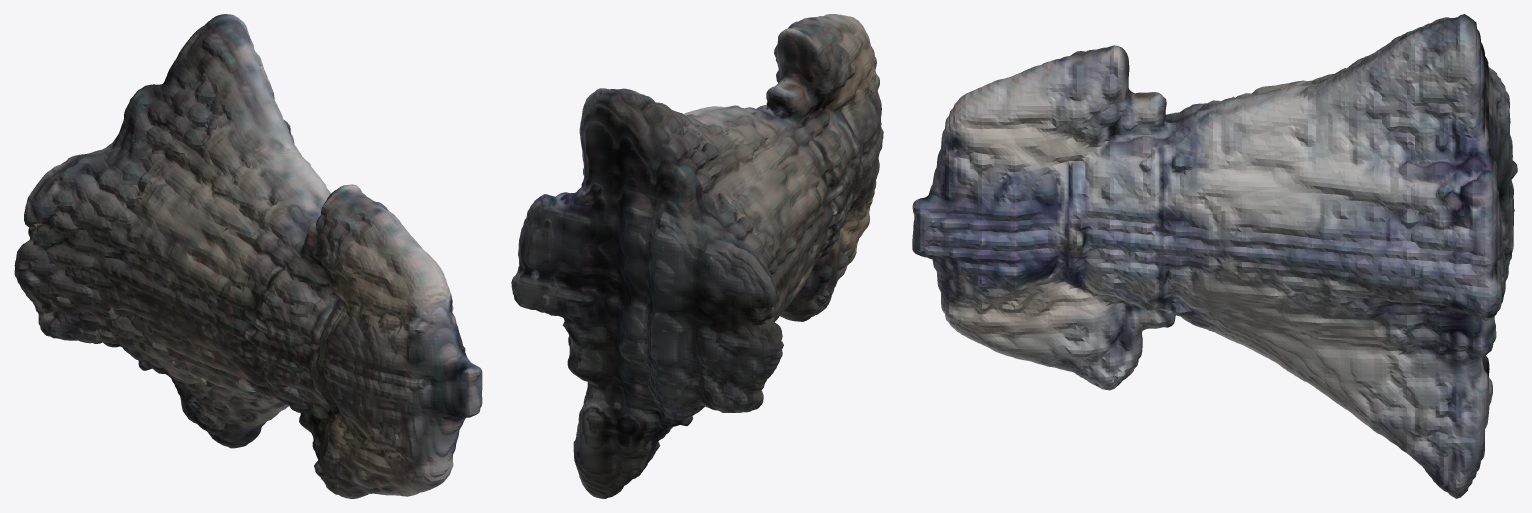
The picture shows the model from 3 angles, left to right: view 1: azimuth 30°, elevation 25°; view 2: azimuth 150°, elevation 25°; view 3: azimuth 270°, elevation 25°; orthographic projection. The views are drawn at different scales.
Bounding box in the file's own units: 0.591 × 0.8597 × 1.
